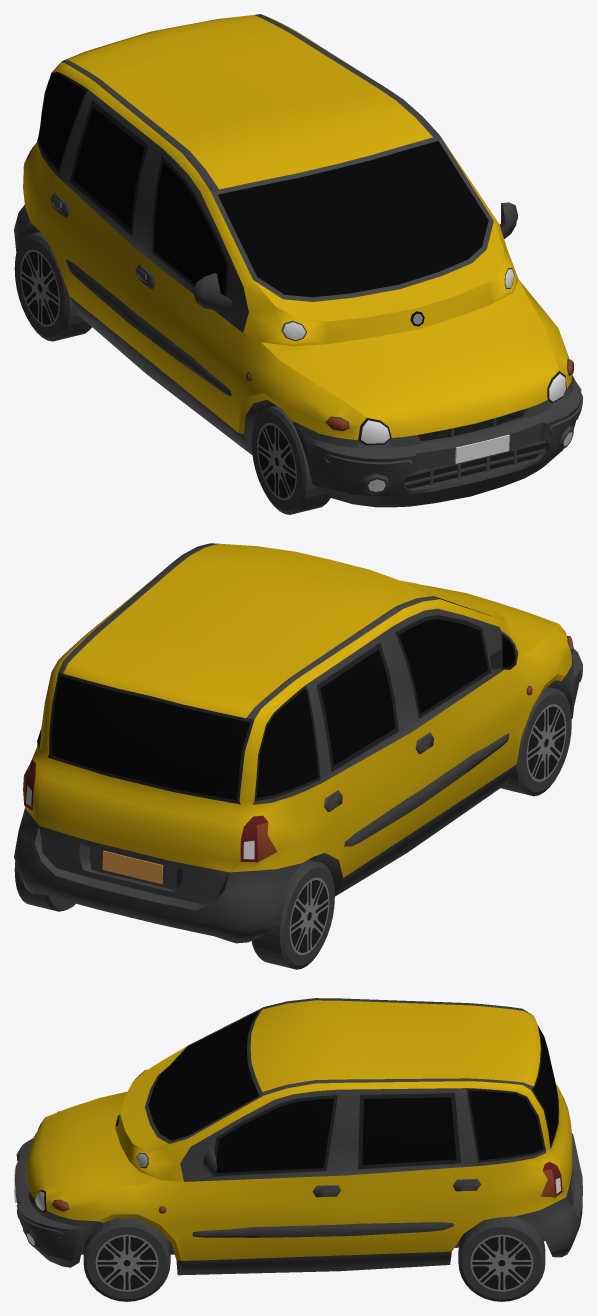
File: multiplx.glb
3 renders of one model, top to bottom at view 1: azimuth 30°, elevation 25°; view 2: azimuth 150°, elevation 25°; view 3: azimuth 270°, elevation 25°, orthographic. The views are drawn at different scales.
Visible parts, largest first — view 1: body, glass, wheel_fr_stock, wheel_rr_stock, lights, plate_front; view 2: body, glass, wheel_rr_stock, wheel_fr_stock, lights, plate_rear, wheel_rl_stock; view 3: body, glass, wheel_rl_stock, wheel_fl_stock, lights.
Boxes of the visible parts, x1,y1,x2,y2 form: body: [14, 14, 582, 507]; glass: [38, 74, 488, 326]; wheel_fr_stock: [251, 405, 330, 514]; wheel_rr_stock: [14, 232, 91, 341]; lights: [24, 149, 573, 491]; plate_front: [454, 434, 509, 463]; body: [14, 543, 582, 943]; glass: [38, 597, 514, 799]; wheel_rr_stock: [251, 859, 334, 969]; wheel_fr_stock: [501, 687, 571, 796]; lights: [23, 636, 573, 862]; plate_rear: [102, 850, 163, 884]; wheel_rl_stock: [14, 862, 75, 911]; body: [14, 998, 582, 1275]; glass: [115, 1011, 558, 1172]; wheel_rl_stock: [458, 1216, 545, 1301]; wheel_fl_stock: [83, 1218, 170, 1301]; lights: [27, 1111, 562, 1245].
Size of the model in its own units: 2.08 by 1.66 by 4.
